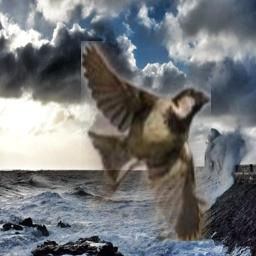Sparrow: (81, 41, 211, 241)
